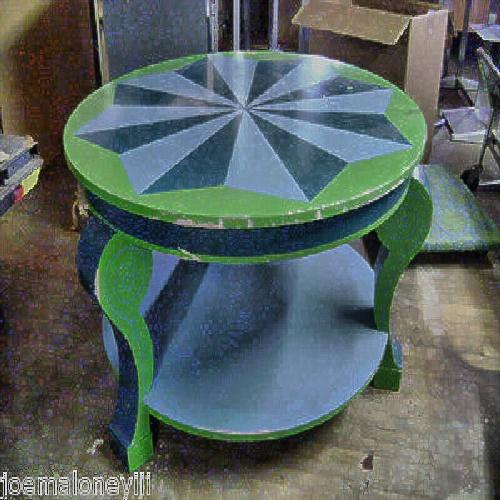table: (69, 57, 418, 456)
